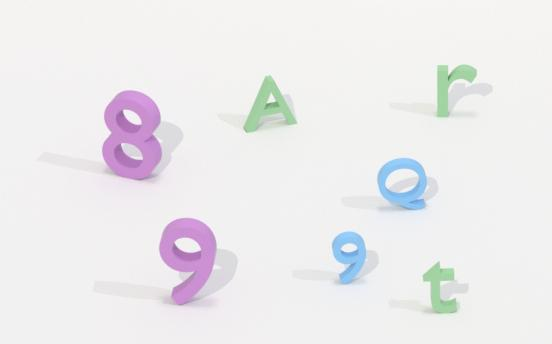8: (99, 91, 166, 182)
9: (157, 219, 221, 307), (328, 230, 371, 286)
A-hoa: (238, 72, 304, 137)
R: (435, 62, 483, 119)
q: (374, 156, 431, 212)
t: (422, 260, 464, 318)
